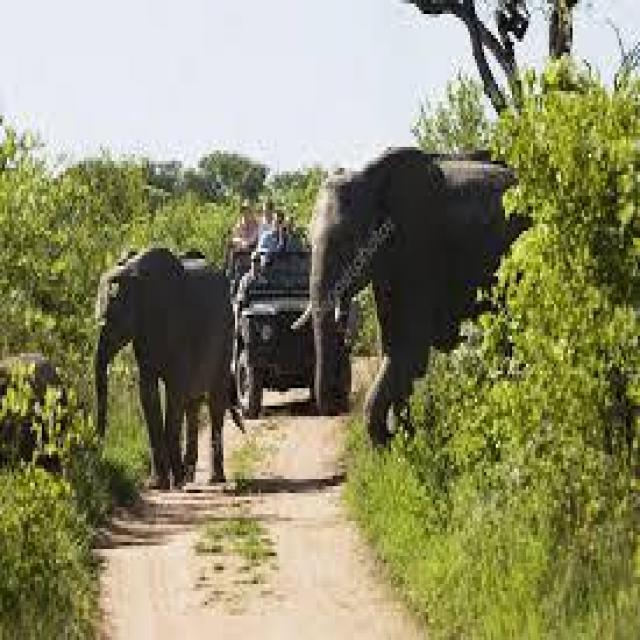Elephant: (296, 143, 530, 450), (88, 220, 256, 500)
